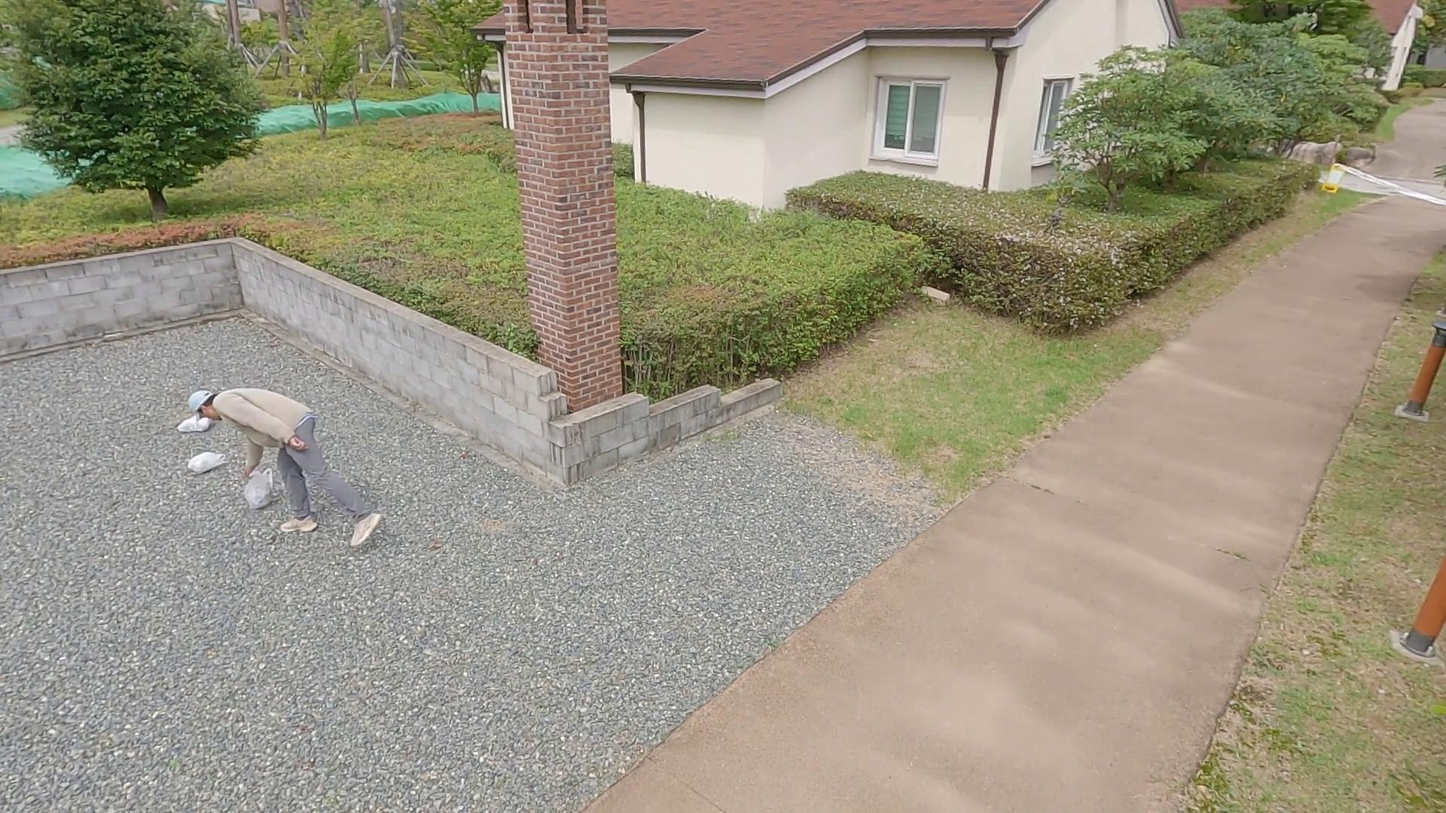person: (191, 381, 388, 555)
trash: (240, 469, 273, 514), (188, 449, 231, 479), (173, 413, 222, 439)
